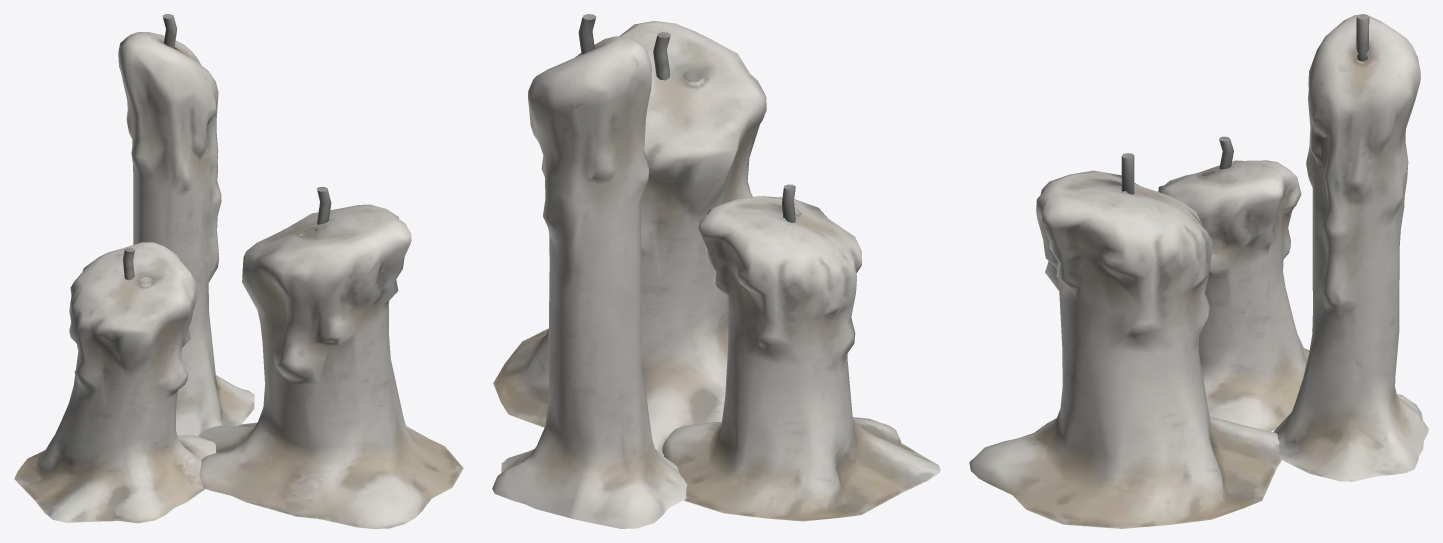
3 renders of one model, left to right at view 1: azimuth 30°, elevation 25°; view 2: azimuth 150°, elevation 25°; view 3: azimuth 270°, elevation 25°, orthographic. The views are drawn at different scales.
Visible parts, largest first — view 1: SM_Candle_01_v6_LOD0; view 2: SM_Candle_01_v6_LOD0; view 3: SM_Candle_01_v6_LOD0.
Part boxes in pixels (x1,y1,x2,y2): SM_Candle_01_v6_LOD0: [14, 14, 463, 528]; SM_Candle_01_v6_LOD0: [492, 14, 940, 528]; SM_Candle_01_v6_LOD0: [969, 14, 1428, 528].
Size of the model in its own units: 0.2572 by 0.2604 by 0.2551.
1 material, 1 textured.
